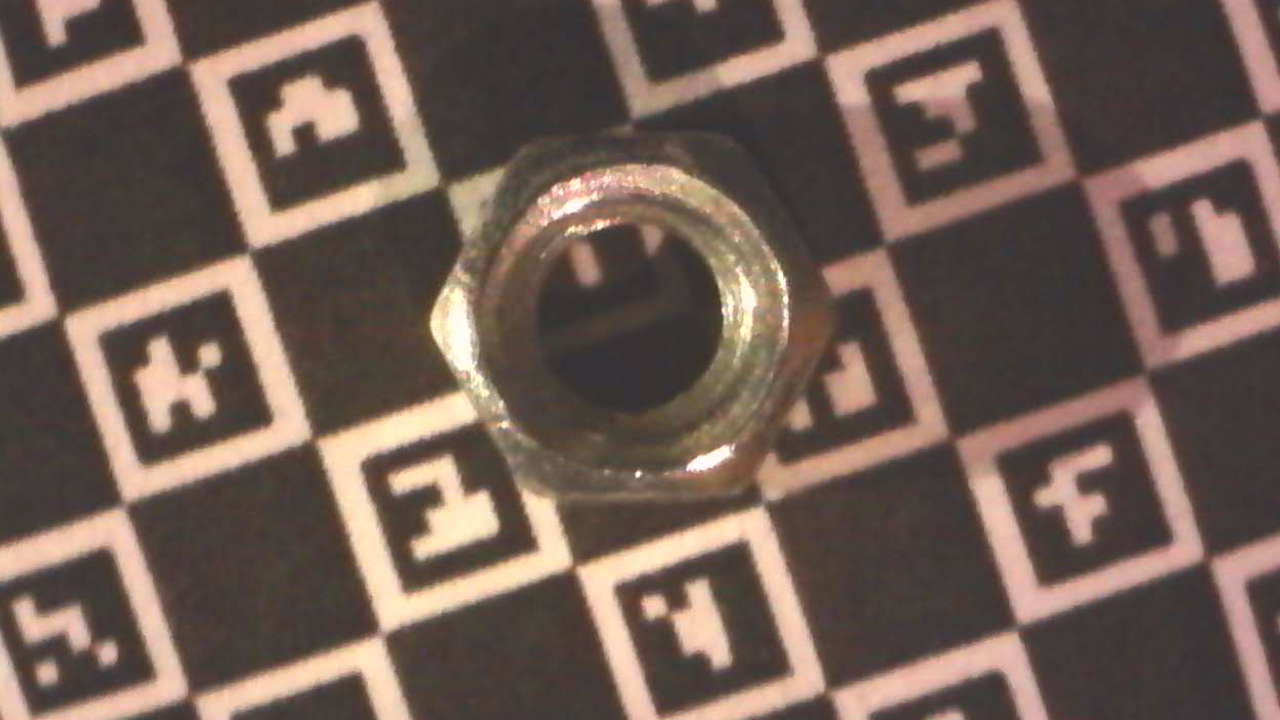Bolt: (423, 131, 845, 501)
